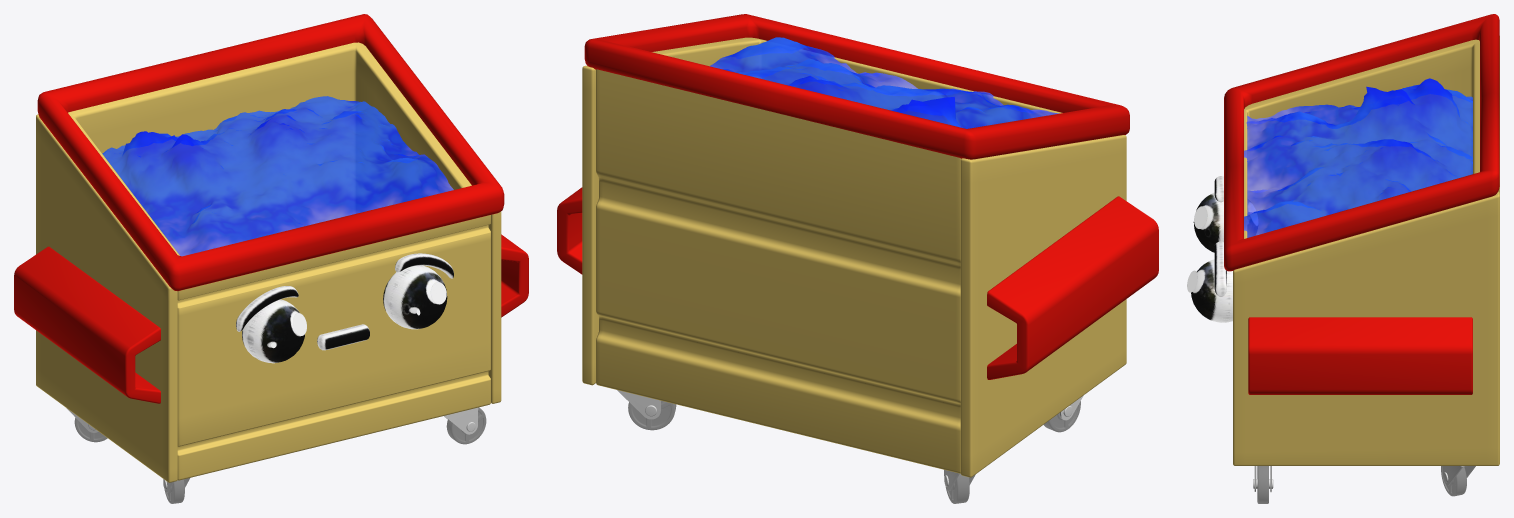
3 renders of one model, left to right at view 1: azimuth 30°, elevation 25°; view 2: azimuth 150°, elevation 25°; view 3: azimuth 270°, elevation 25°, orthographic. The views are drawn at different scales.
Visible parts, largest first — view 1: Dumpster Geometry, Explosion Fire Base.002, Wheel Holder; view 2: Dumpster Geometry, Explosion Fire Base.002, Wheel Holder; view 3: Dumpster Geometry, Explosion Fire Base.002, Wheel Holder.
Boxes of the visible parts, x1,y1,x2,y2 form: Dumpster Geometry: (14, 14, 528, 503); Explosion Fire Base.002: (102, 96, 453, 256); Wheel Holder: (66, 407, 478, 492); Dumpster Geometry: (557, 14, 1158, 503); Explosion Fire Base.002: (710, 37, 1059, 128); Wheel Holder: (617, 390, 1083, 490); Dumpster Geometry: (1187, 14, 1499, 503); Explosion Fire Base.002: (1244, 78, 1472, 237); Wheel Holder: (1253, 466, 1475, 492).
Size of what is drawn, in the model's own units: 2.31 by 1.85 by 1.55.
8 materials, 4 textured.
